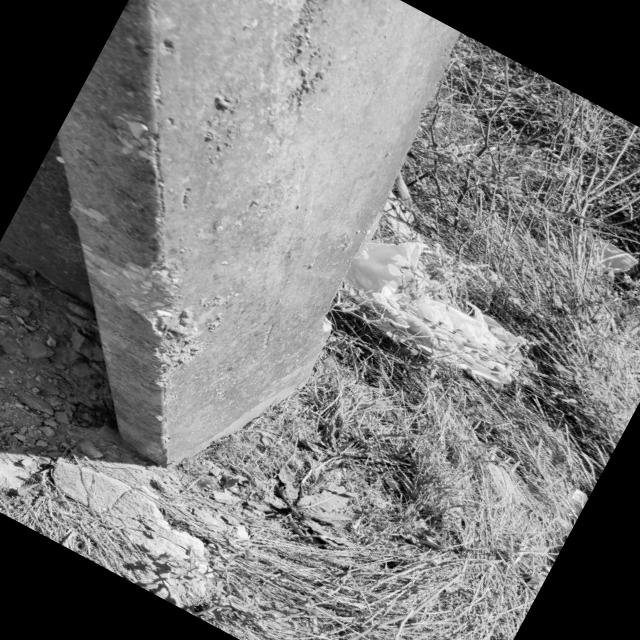Other plastic bottle: (597, 241, 637, 273)
Single-use carrier bag: (342, 242, 465, 354), (417, 297, 524, 385)
Unlabeled litter: (566, 489, 586, 513)
